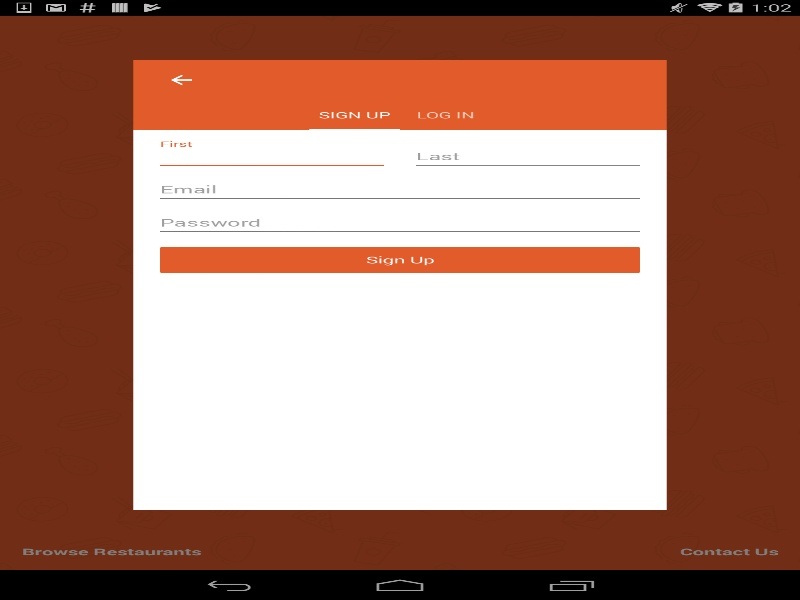Button: (160, 246, 640, 273), (144, 60, 218, 100)
Input: (154, 180, 645, 203), (154, 213, 645, 236), (154, 146, 389, 170), (410, 146, 645, 170)
